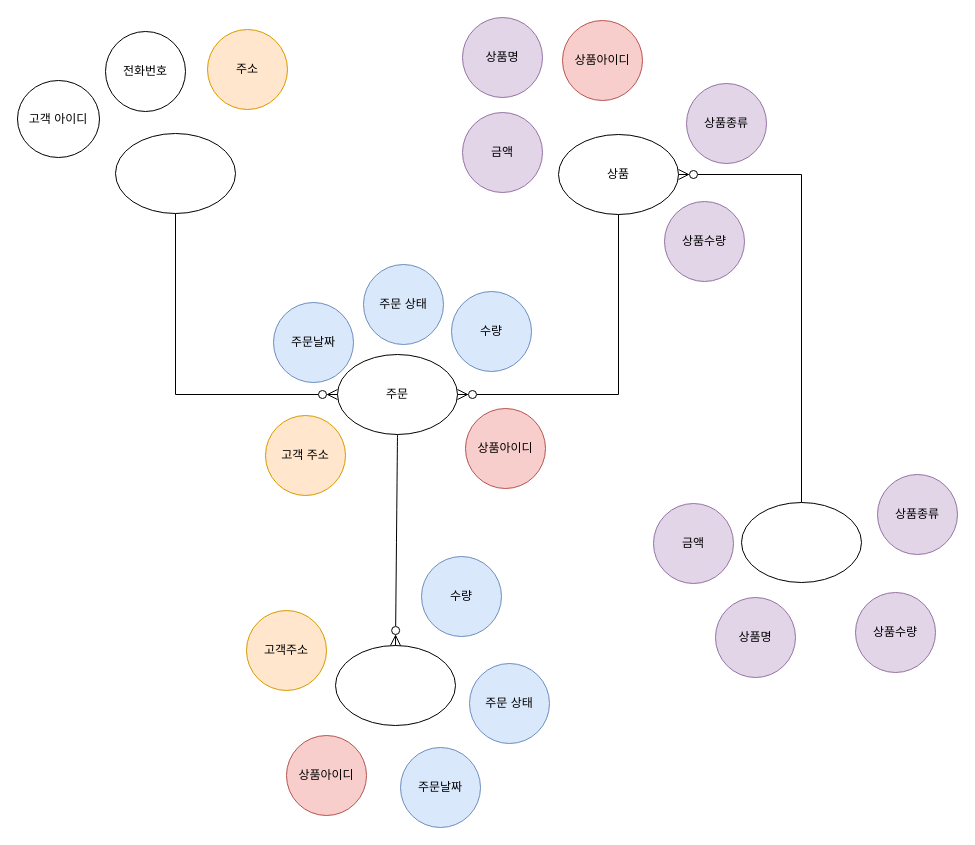
Some shapes in this 975 by 845 pixel diagram are drawn without their labels. The shapes that lost their labels are listed below. From the top down, each one's centre as x and y in pixels, then its label:
At (175,173): "고객".
At (801,542): "가게".
At (395,685): "라이더".
